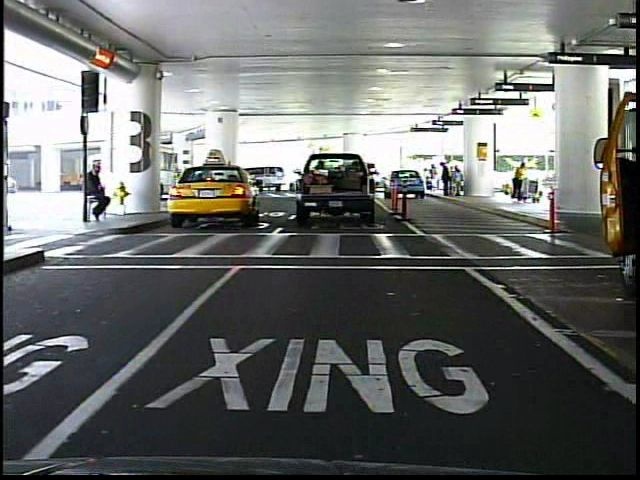person: (86, 161, 113, 228), (507, 158, 528, 208)
